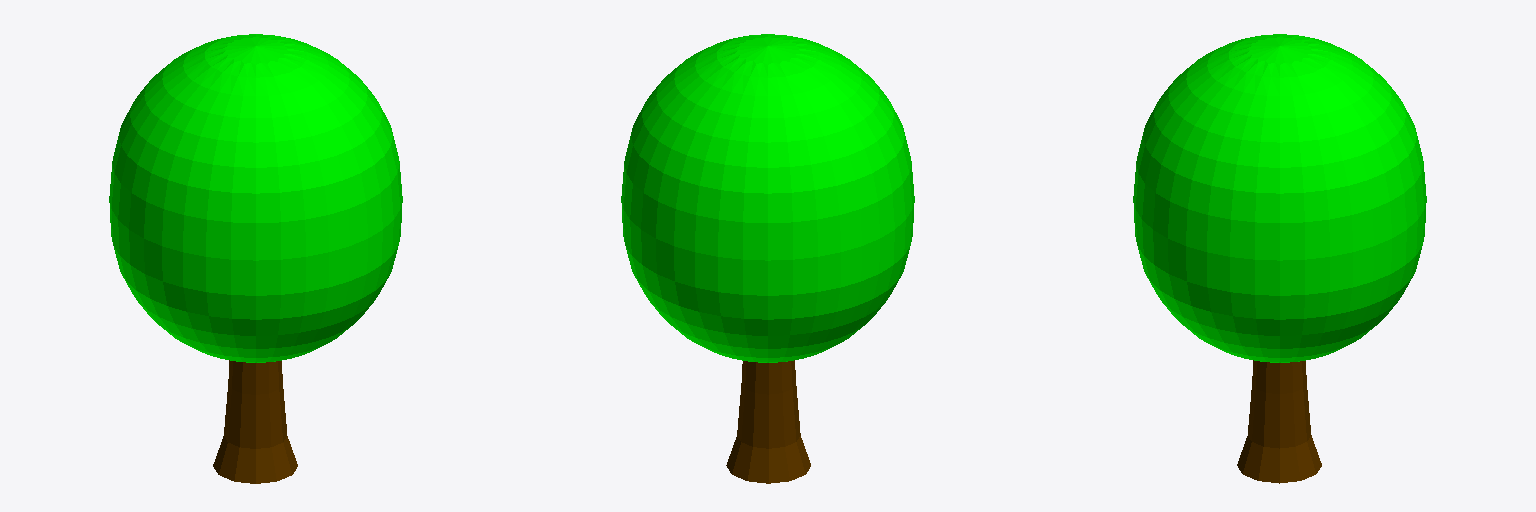
The model's file is roundtree.obj.
3 views of the same model, side by side, from view 1: azimuth 30°, elevation 25°; view 2: azimuth 150°, elevation 25°; view 3: azimuth 270°, elevation 25° (orthographic).
Parts seen in each view (by area): view 1: Cartoon_tree_1; view 2: Cartoon_tree_1; view 3: Cartoon_tree_1.
Boxes of the visible parts, x1=… form: Cartoon_tree_1: x1=109, y1=34, x2=402, y2=483; Cartoon_tree_1: x1=621, y1=34, x2=914, y2=483; Cartoon_tree_1: x1=1133, y1=34, x2=1426, y2=483.
Bounding box in the file's own units: 134 × 211 × 134.